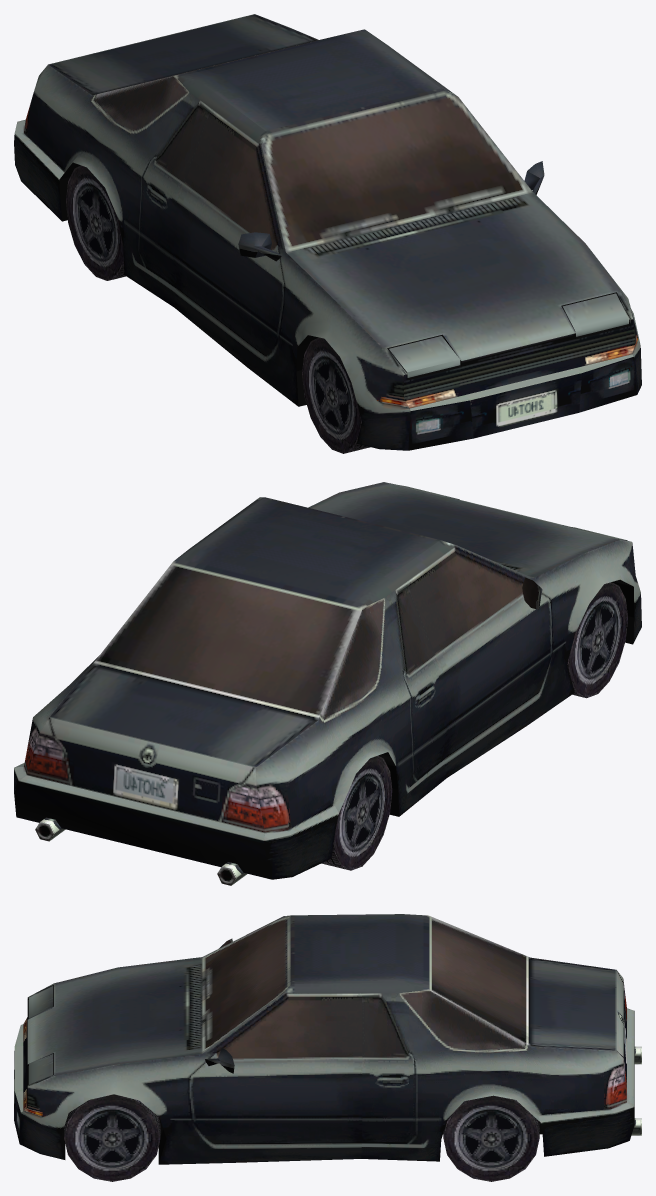
Rendered from modern.fbx.
3 views of the same model, one above another, from view 1: azimuth 30°, elevation 25°; view 2: azimuth 150°, elevation 25°; view 3: azimuth 270°, elevation 25° (orthographic). The views are drawn at different scales.
Parts seen in each view (by area): view 1: mesh_0; view 2: mesh_0; view 3: mesh_0.
Part boxes in pixels (<box>): mesh_0: <box>14,14,641,453</box>; mesh_0: <box>14,482,641,885</box>; mesh_0: <box>14,914,641,1181</box>.
Size of the model in its own units: 200 by 142 by 446.
Materials: 1 (1 with a texture image).
